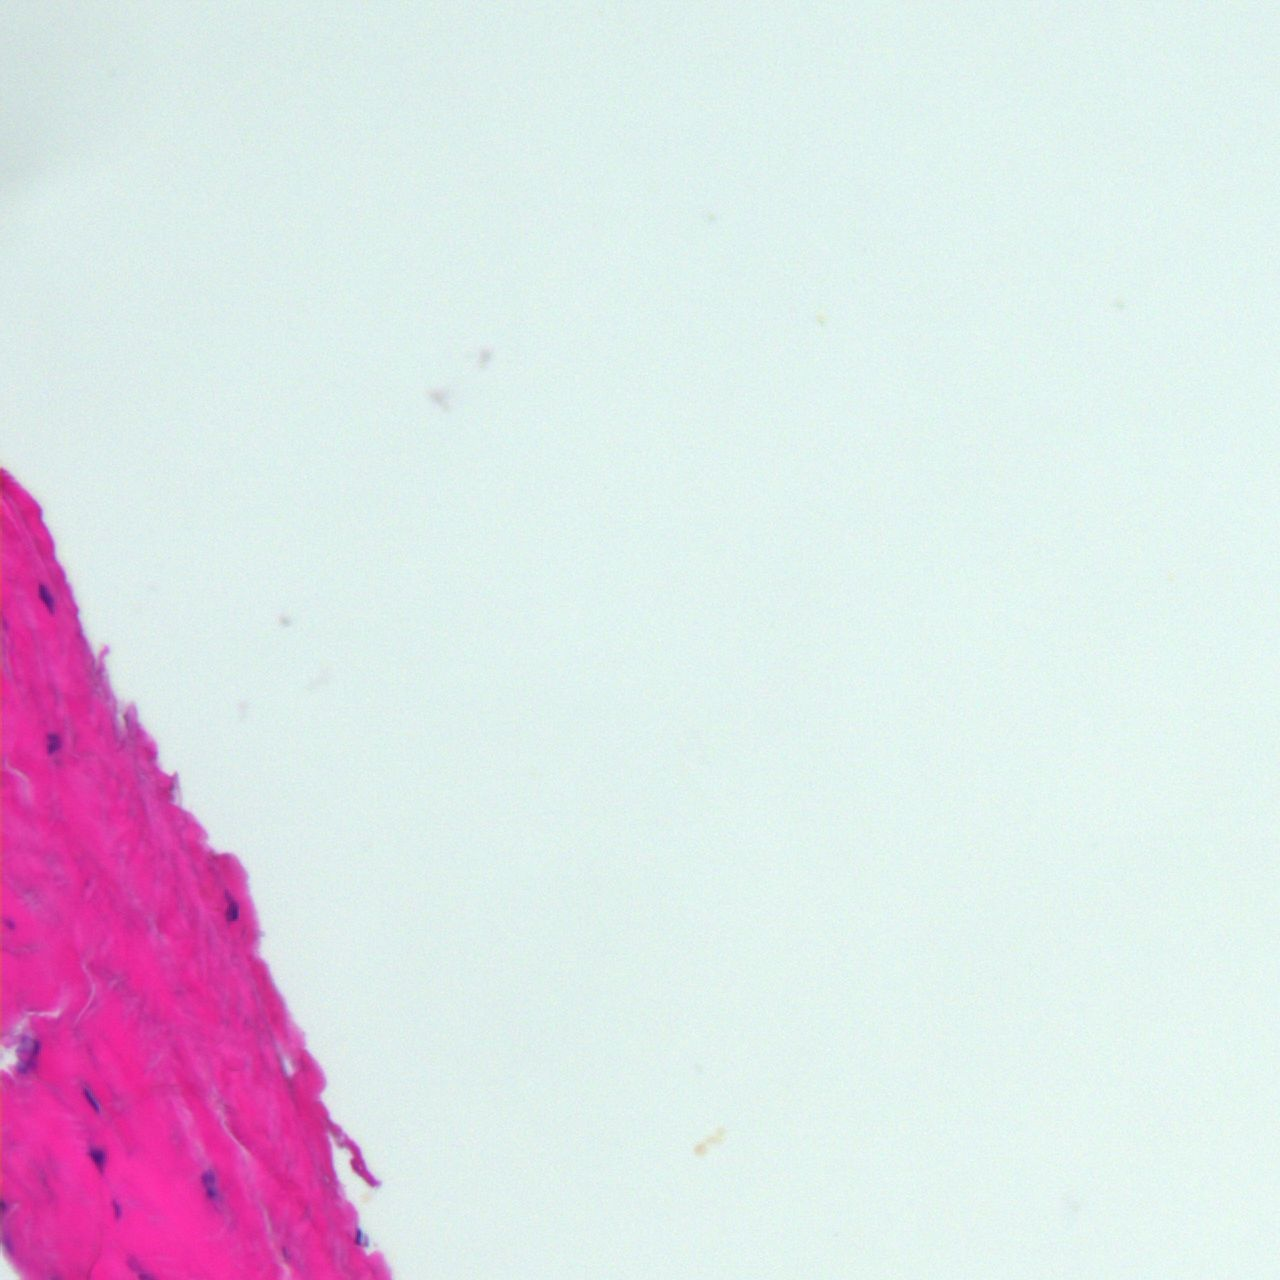nucleus-HE: (77, 1084, 105, 1118), (32, 581, 57, 617), (199, 1165, 224, 1201), (222, 887, 240, 924), (84, 1143, 105, 1173), (45, 730, 63, 754), (111, 1196, 123, 1224), (353, 1227, 362, 1246)
